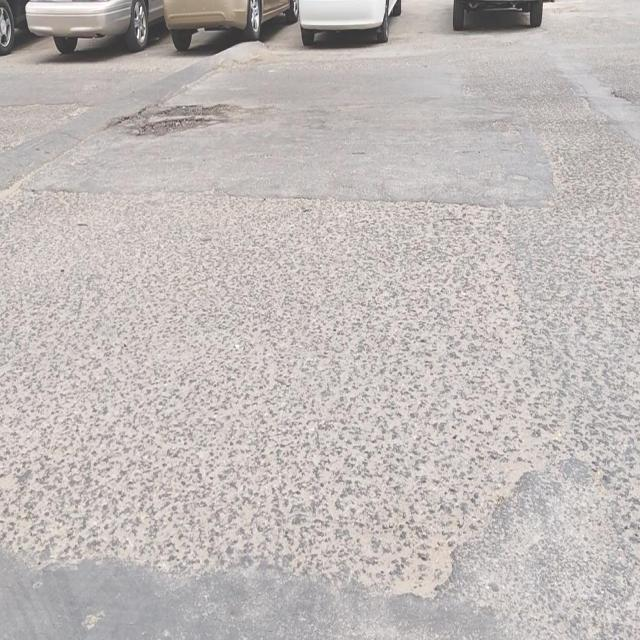Potholes: (125, 100, 232, 141)
